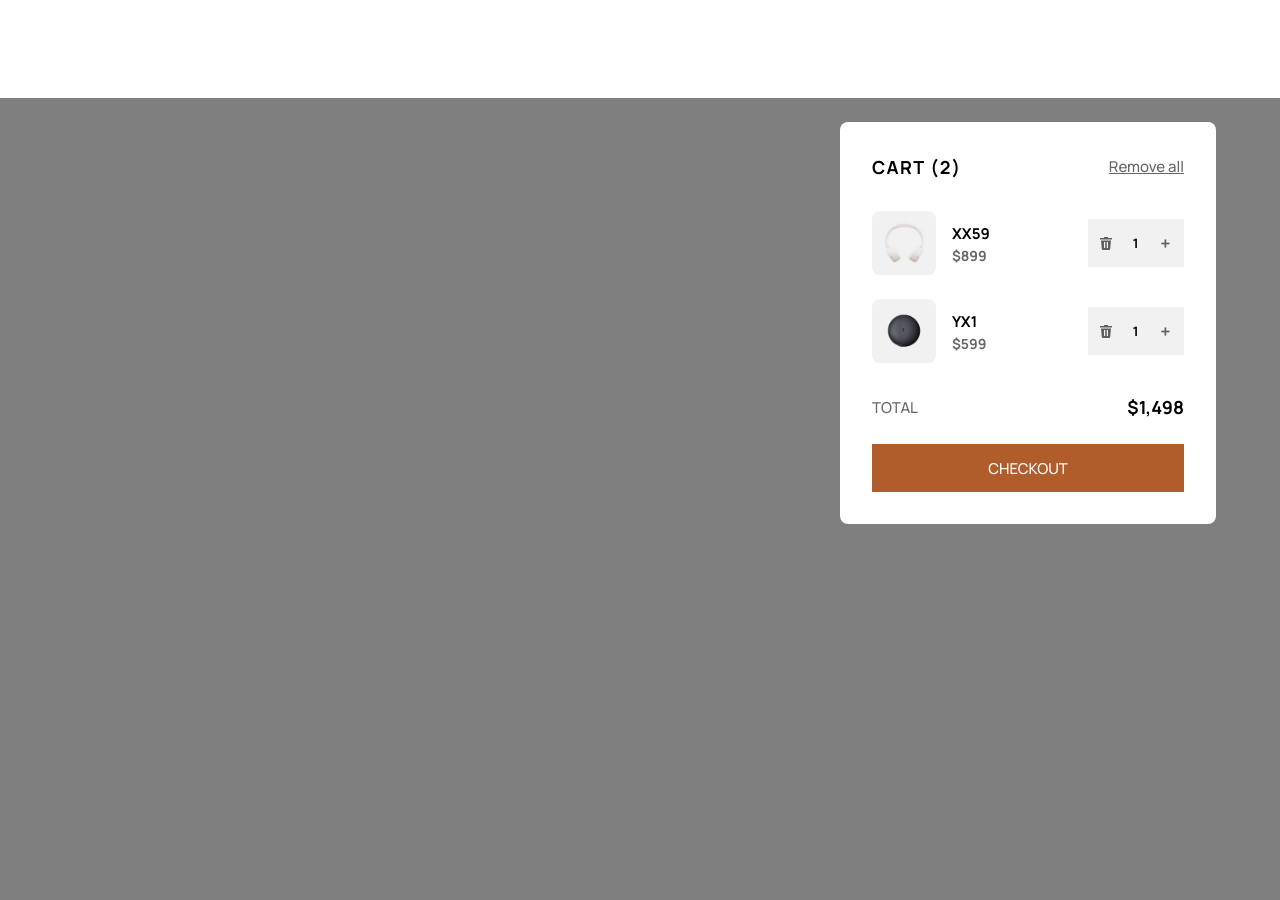
Cart › offers no undo once the cart has changed again
Click the button named "Remove XX59": (1106, 243) [1090,226,1122,260]
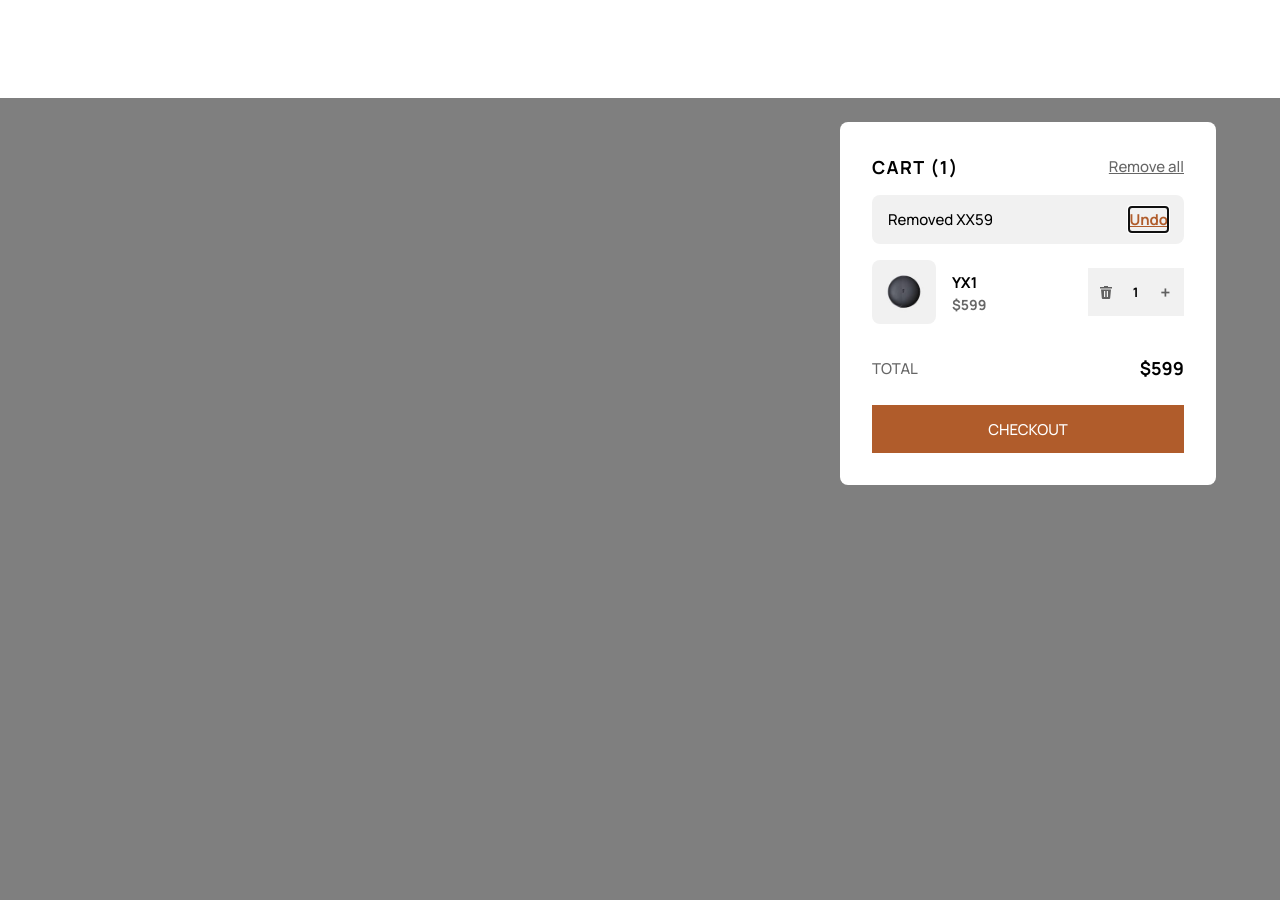
Click the button named "Increase quantity": (1166, 292) [1150,270,1182,314]
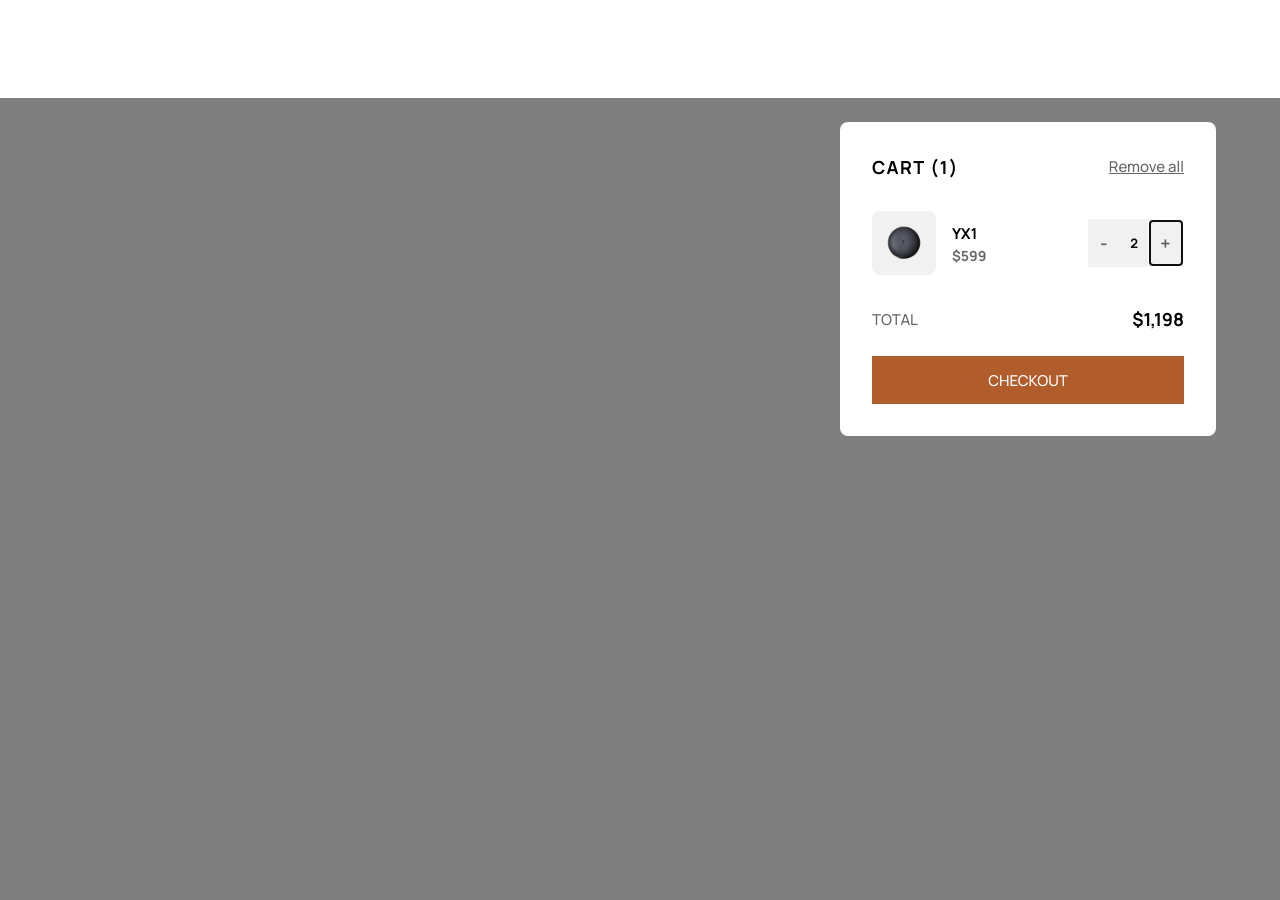
Now the button "Undo" is gone
